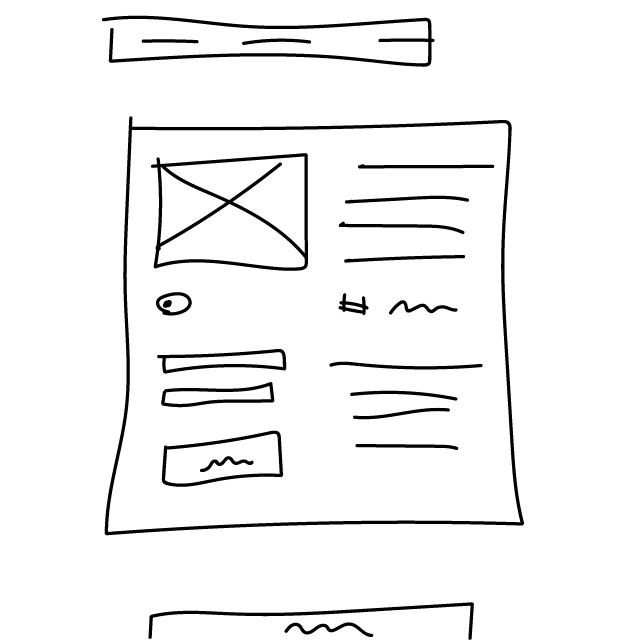button: (157, 429, 292, 489)
checkbox: (154, 293, 198, 317)
container: (96, 114, 541, 545)
footer: (142, 596, 492, 640)
frame: (150, 150, 313, 275)
heading: (336, 291, 462, 323)
input: (154, 348, 291, 376), (158, 384, 282, 408)
nav: (99, 12, 443, 74)
text: (338, 158, 496, 271), (328, 355, 493, 460)
